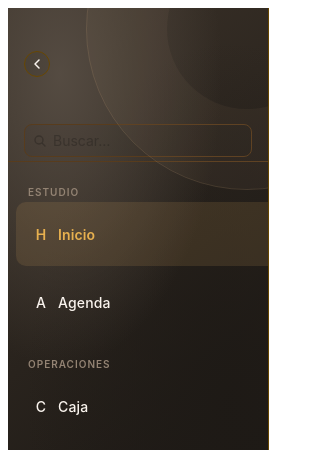
it: Sidebar — suksai variant — Search › filters nav items to matching results when a query is typed
Type "Caja" into the search field named "buscar en la navegación" at (162, 140), box x1=51 y1=131 x2=273 y2=150
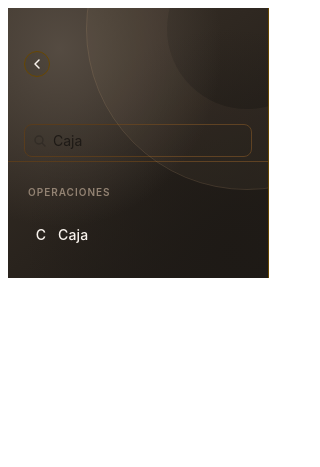
Expected: the text "Caja" is shown, x1=58 y1=226 x2=88 y2=242
Expected: the link "Inicio" is gone
Expected: the link "Agenda" is gone
